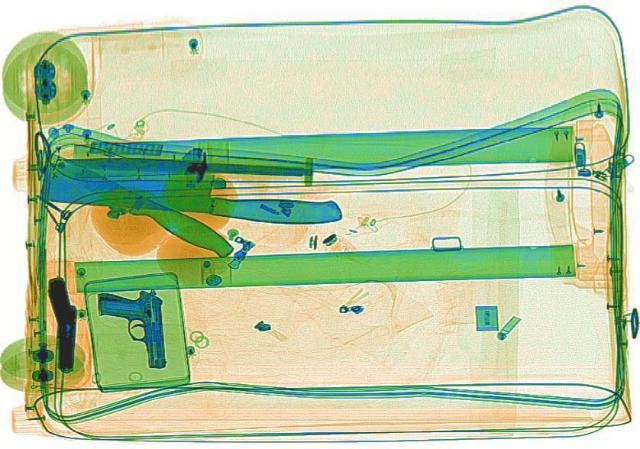Gun: (96, 288, 164, 368), (44, 276, 84, 373)
Knife: (25, 139, 242, 260), (37, 164, 346, 224), (61, 153, 303, 179)
